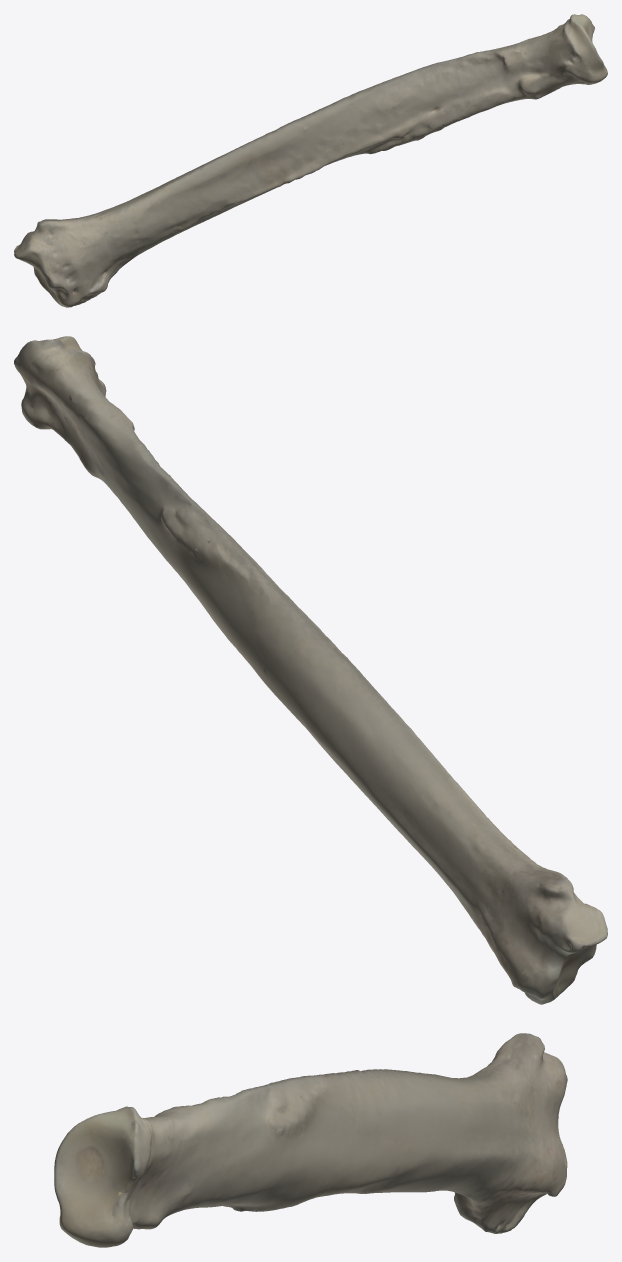
The picture shows the model from 3 angles, top to bottom: view 1: azimuth 30°, elevation 25°; view 2: azimuth 150°, elevation 25°; view 3: azimuth 270°, elevation 25°; orthographic projection. The views are drawn at different scales.
Parts seen in each view (by area): view 1: Radius_li_Hund.001; view 2: Radius_li_Hund.001; view 3: Radius_li_Hund.001.
Part boxes in pixels (left/top/right/bottom): Radius_li_Hund.001: left=14, top=14, right=607, bottom=307; Radius_li_Hund.001: left=14, top=336, right=607, bottom=1004; Radius_li_Hund.001: left=54, top=1033, right=567, bottom=1247.
Bounding box in the file's own units: 15081 × 7786 × 6966.
1 material, 1 textured.
